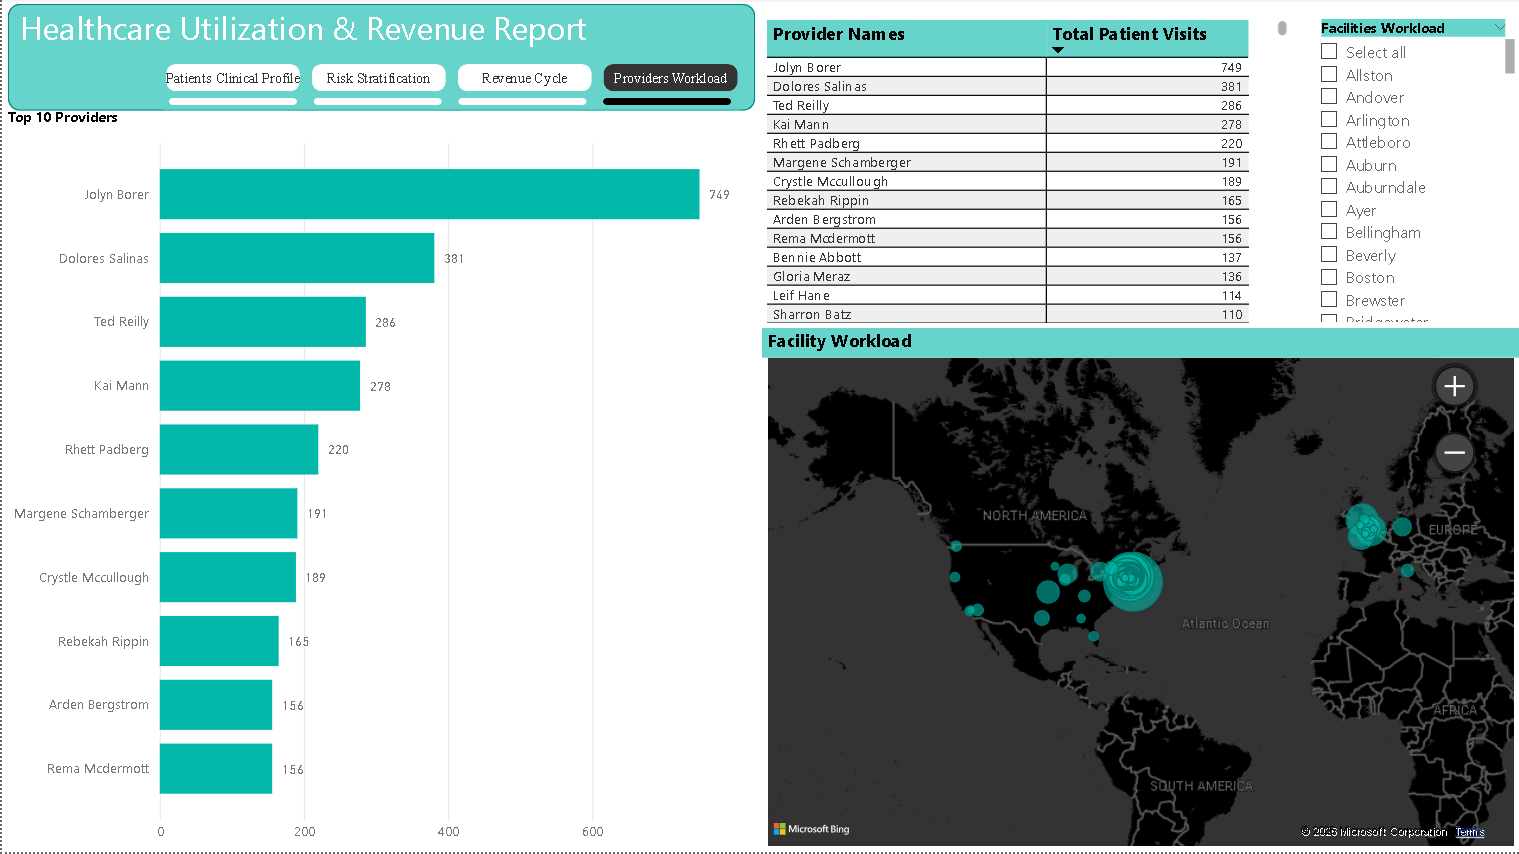

The dashboard page shown, as its layout file describes it:
{"tool":"powerbi","page":{"name":"Providers Workload","canvas":[1280,720],"ordinal":3},"visuals":[{"type":"shape","box":[0,0,640,100],"z":0},{"type":"pivotTable","fields":{"Rows":["vw_provider_visits.provider_name"],"Values":["Sum(vw_provider_visits.total_patient_visits)"]},"box":[640,13.1,448.5,265.1],"z":1000},{"type":"barChart","title":"Top 10 Providers","fields":{"Category":["vw_provider_visits.provider_name"],"Y":["Sum(vw_provider_visits.total_patient_visits)"]},"box":[0,92.7,627.9,513],"z":2000},{"type":"map","title":"Facility Workload","fields":{"Category":["vw_provider_visits.facility_location"],"Size":["Sum(vw_provider_visits.total_patient_visits)"]},"box":[640,277.6,640,368.2],"z":3000},{"type":"slicer","fields":{"Values":["vw_provider_visits.facility_location"]},"box":[1099,13,181,265],"z":4000},{"type":"group","id":"g1","title":"Sub Navigation","box":[132.8,50.9,495.1,44.6],"z":4001},{"type":"pageNavigator","box":[135.5,79.5,487.3,16],"z":14000,"group":"g1"},{"type":"pageNavigator","box":[132.8,50.9,495.1,33.4],"z":15000,"group":"g1"}]}

Visuals, with their boxes in screenshot pixels (x1, y1, x2, y2), scaled from the page's 1280x720 canvas onto the 1519x854 screenshot:
shape: Rect(0, 0, 760, 119)
pivotTable - vw_provider_visits.provider_name x Sum(vw_provider_visits.total_patient_visits): Rect(760, 16, 1292, 330)
"Top 10 Providers" barChart: Rect(0, 110, 745, 718)
"Facility Workload" map: Rect(760, 329, 1518, 766)
slicer - vw_provider_visits.facility_location: Rect(1304, 15, 1518, 330)
"Sub Navigation" group: Rect(158, 60, 745, 113)
pageNavigator: Rect(161, 94, 739, 113)
pageNavigator: Rect(158, 60, 745, 100)
